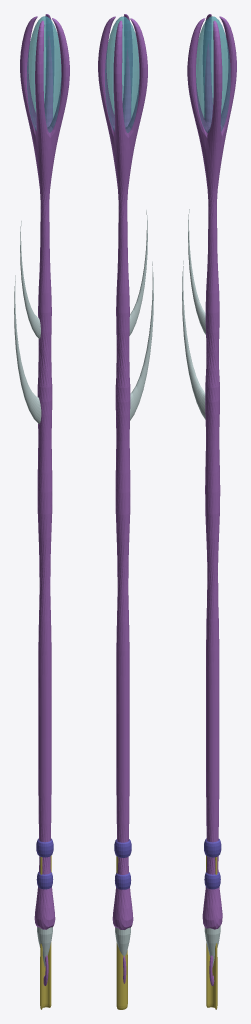
The model's file is staff.fbx.
The picture shows the model from 3 angles, left to right: view 1: azimuth 30°, elevation 25°; view 2: azimuth 210°, elevation 25°; view 3: azimuth 330°, elevation 25°; orthographic projection.
Visible parts, largest first — view 1: Box01; view 2: Box01; view 3: Box01.
Part boxes in pixels (x1,y1,x2,y2): Box01: (14,14,69,1009); Box01: (98,14,153,1009); Box01: (182,14,236,1009).
Bounding box in the file's own units: 0.9994 × 20 × 0.7132.
